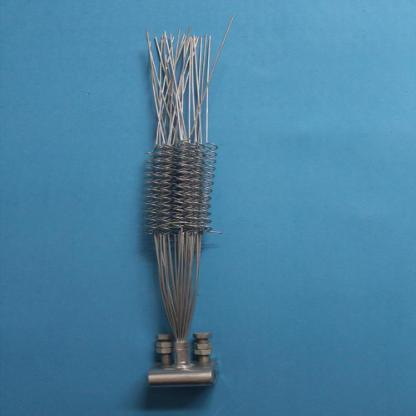FOD: (140, 149, 160, 235)
